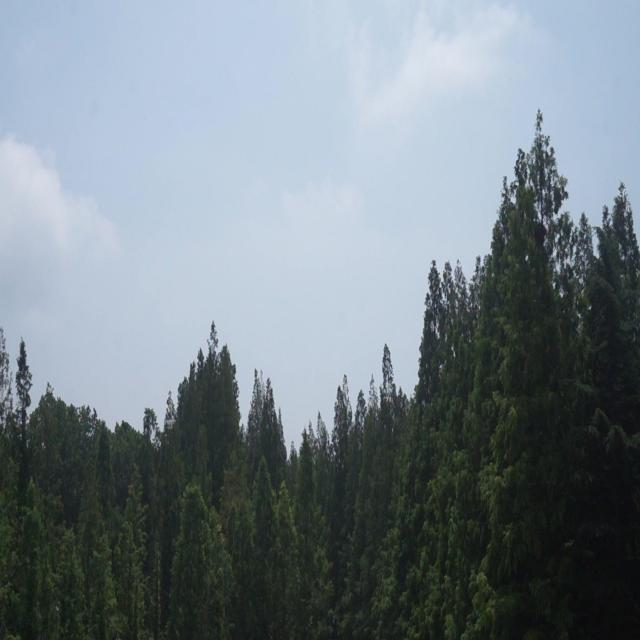UAV: (164, 420, 176, 429)
